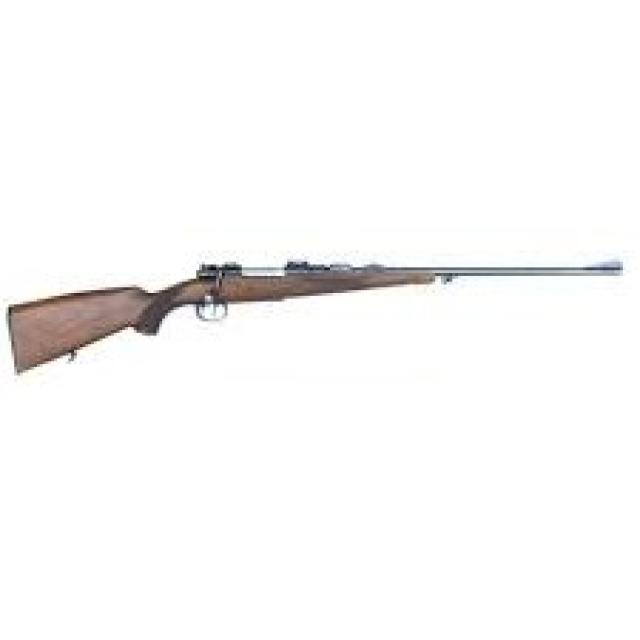rifle: (3, 243, 635, 389)
